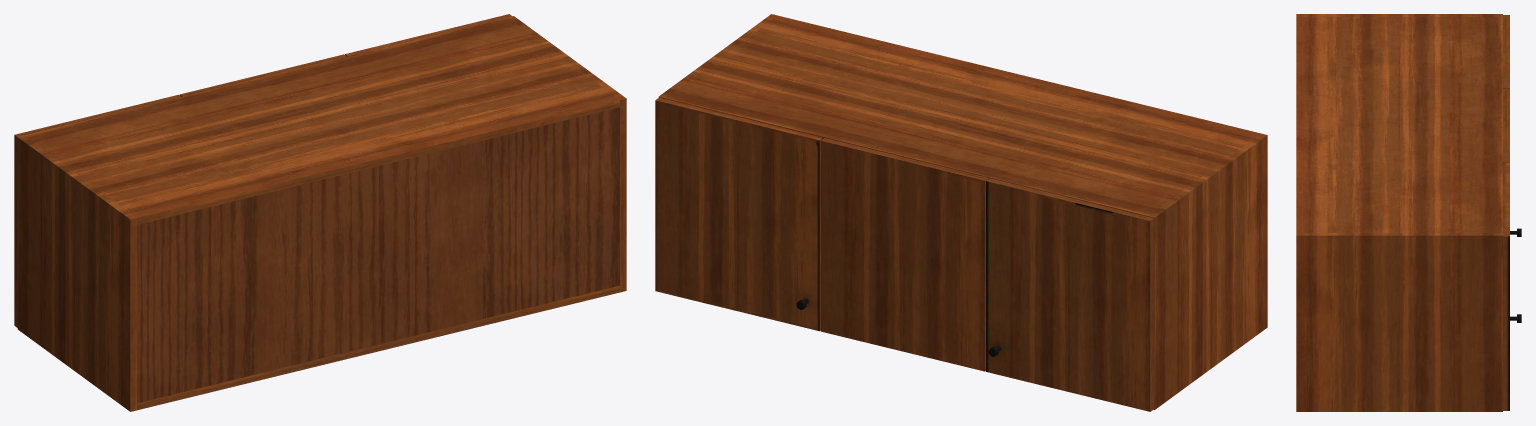
The model's file is wardrobe_3door_top_web.glb.
3 renders of one model, left to right at view 1: azimuth 30°, elevation 25°; view 2: azimuth 150°, elevation 25°; view 3: azimuth 270°, elevation 25°, orthographic. The views are drawn at different scales.
Visible parts, largest first — view 1: Wardrobe3DoorTop_Body, Door_Top_3_Mesh, Door_Top_1_Mesh, Door_Top_2_Mesh; view 2: Wardrobe3DoorTop_Body, Door_Top_3_Mesh, Door_Top_2_Mesh, Door_Top_1_Mesh; view 3: Wardrobe3DoorTop_Body, Door_Top_1_Mesh, Door_Top_2_Mesh, Door_Top_3_Mesh.
Boxes of the visible parts, <box> form: Wardrobe3DoorTop_Body: <box>17,16,626,411</box>; Door_Top_3_Mesh: <box>14,94,180,327</box>; Door_Top_1_Mesh: <box>345,14,511,56</box>; Door_Top_2_Mesh: <box>179,54,346,96</box>; Wardrobe3DoorTop_Body: <box>658,14,1267,409</box>; Door_Top_3_Mesh: <box>986,178,1154,411</box>; Door_Top_2_Mesh: <box>820,138,988,371</box>; Door_Top_1_Mesh: <box>655,97,823,331</box>; Wardrobe3DoorTop_Body: <box>1296,14,1502,411</box>; Door_Top_1_Mesh: <box>1503,162,1509,410</box>; Door_Top_2_Mesh: <box>1503,89,1509,162</box>; Door_Top_3_Mesh: <box>1503,15,1509,88</box>.
Bounding box in the file's own units: 1.35 × 0.5 × 0.58.
Materials: 2 (2 with a texture image).
